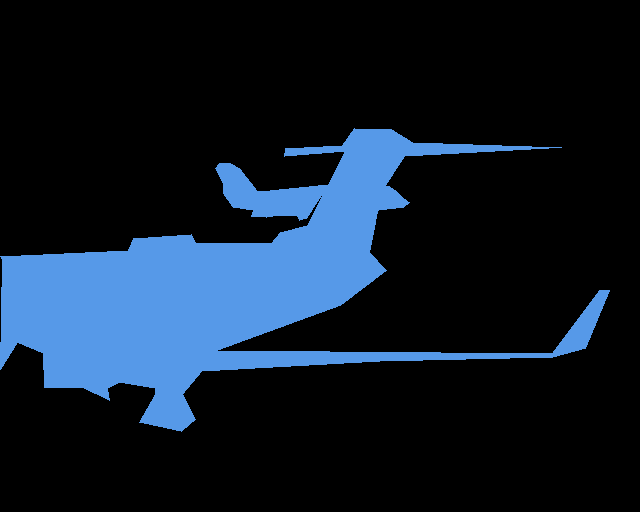Airplane: (0, 128, 609, 431), (215, 163, 410, 221)
